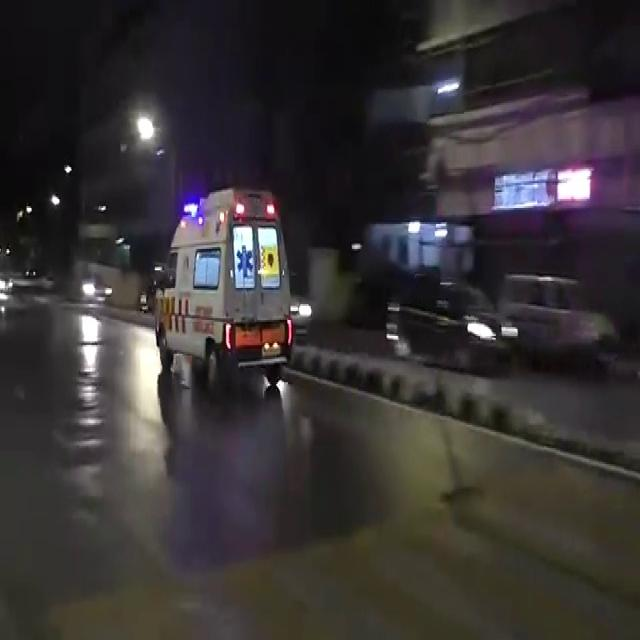ambulance: (156, 192, 287, 388)
